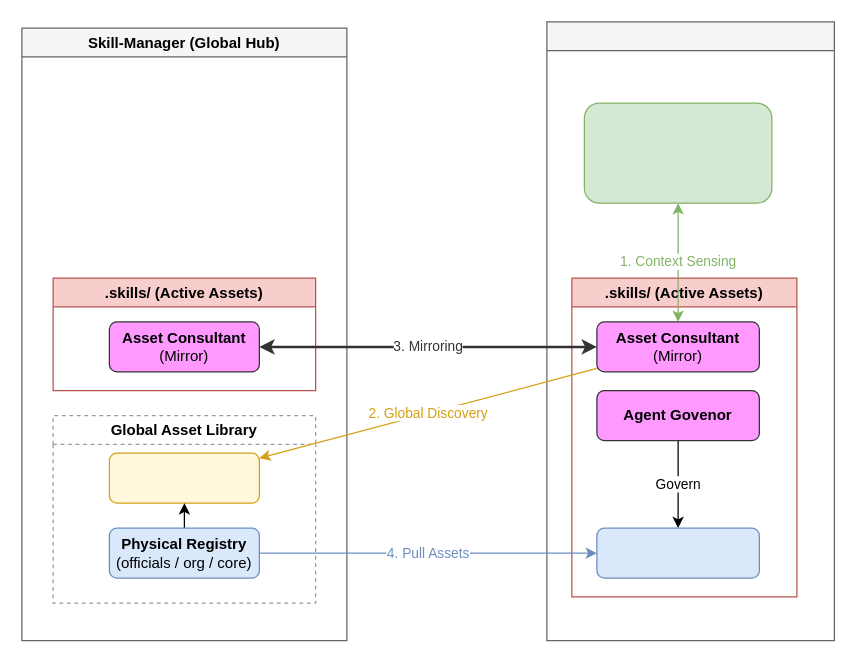
The diagram is 856 pixels wide and 663 high, and some of its shapes have lost their labels. Each missing label, with the box of its shape:
ASSET_INDEX.md (The Catalog): (108, 452, 259, 503)
Imported Skills (Swarm, PDF, etc.): (596, 527, 759, 578)
Local Resources (src, docs, tests, etc.): (583, 102, 772, 203)
Target Project (work_dir): (546, 21, 834, 641)
